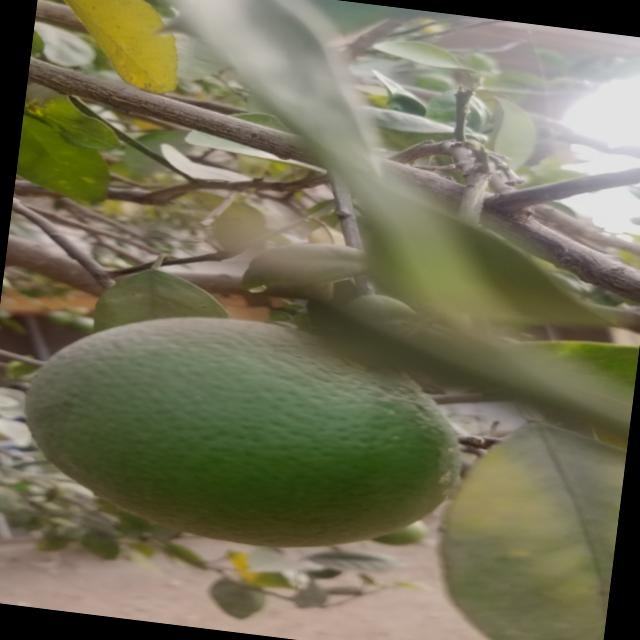agrume: (4, 302, 476, 563)
